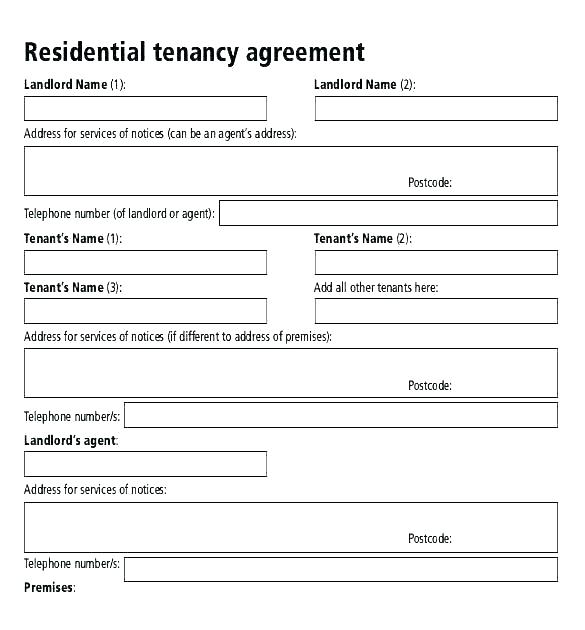textbox: (21, 344, 561, 400), (21, 499, 560, 555), (21, 144, 561, 197), (120, 399, 561, 429), (122, 554, 560, 584), (217, 198, 560, 229), (22, 448, 271, 480), (22, 92, 270, 124), (313, 295, 560, 327), (313, 94, 563, 125), (22, 247, 271, 278), (22, 296, 270, 327), (312, 248, 561, 277)
